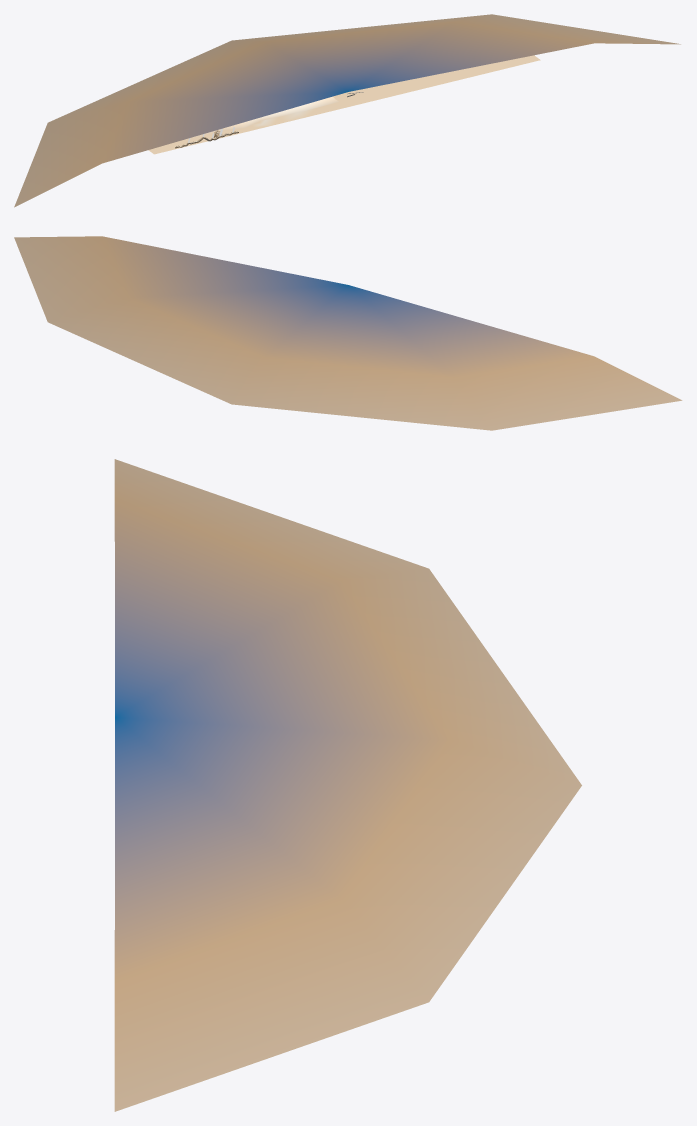
The model's file is Desert 07.fbx.
3 renders of one model, top to bottom at view 1: azimuth 30°, elevation 25°; view 2: azimuth 150°, elevation 25°; view 3: azimuth 270°, elevation 25°, orthographic. The views are drawn at different scales.
Visible parts, largest first — view 1: Light_01, Bg; view 2: Light_01; view 3: Light_01.
Part boxes in pixels (<box>): Light_01: <box>14,14,680,207</box>; Bg: <box>148,55,540,154</box>; Light_01: <box>14,236,682,430</box>; Light_01: <box>114,459,581,1111</box>.
Bounding box in the file's own units: 983996 × 47831 × 297667.
